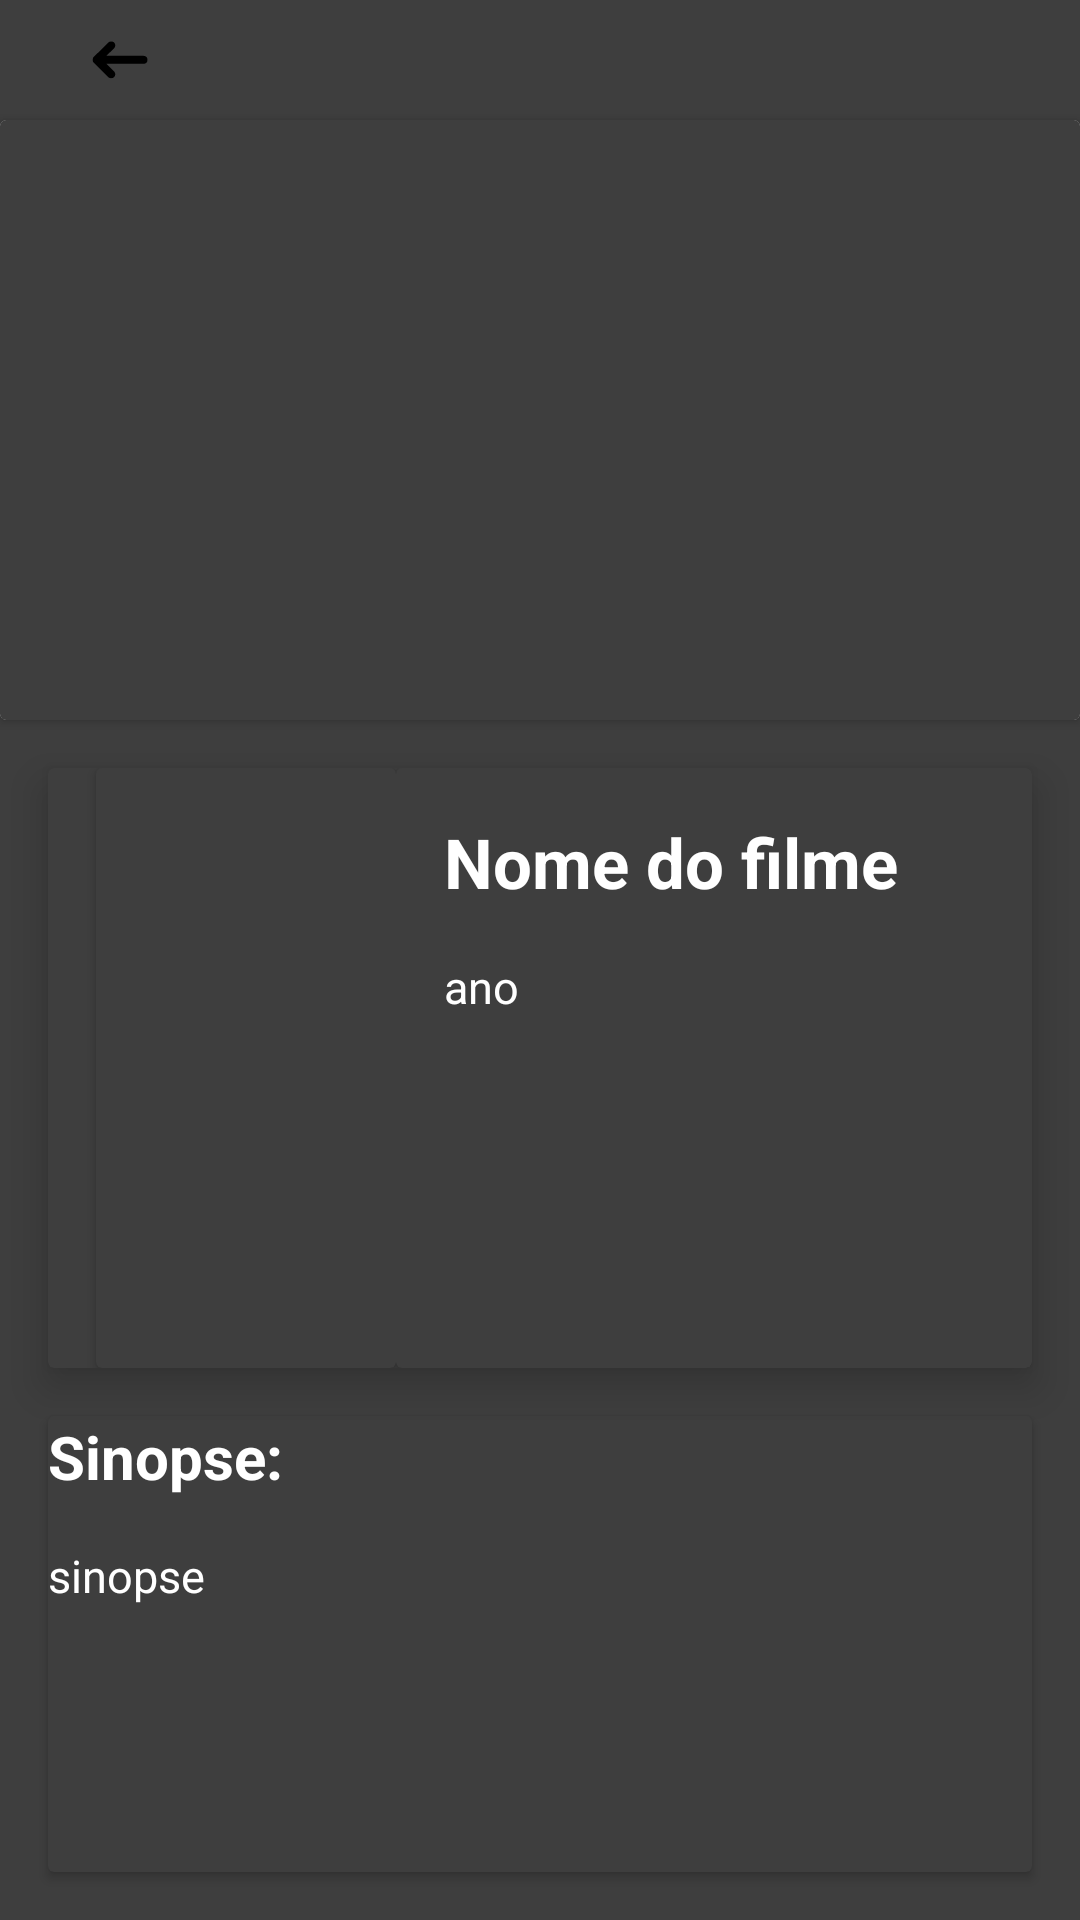

Screen size 1080w x 1920h. Icon name, then its center in pixels as (x=x, y=y):
arrow: (x=120, y=59)
